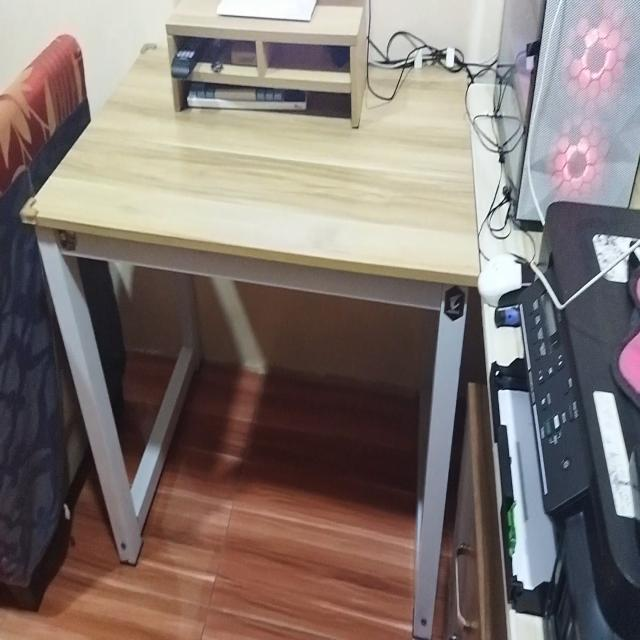table: (36, 37, 480, 640)
